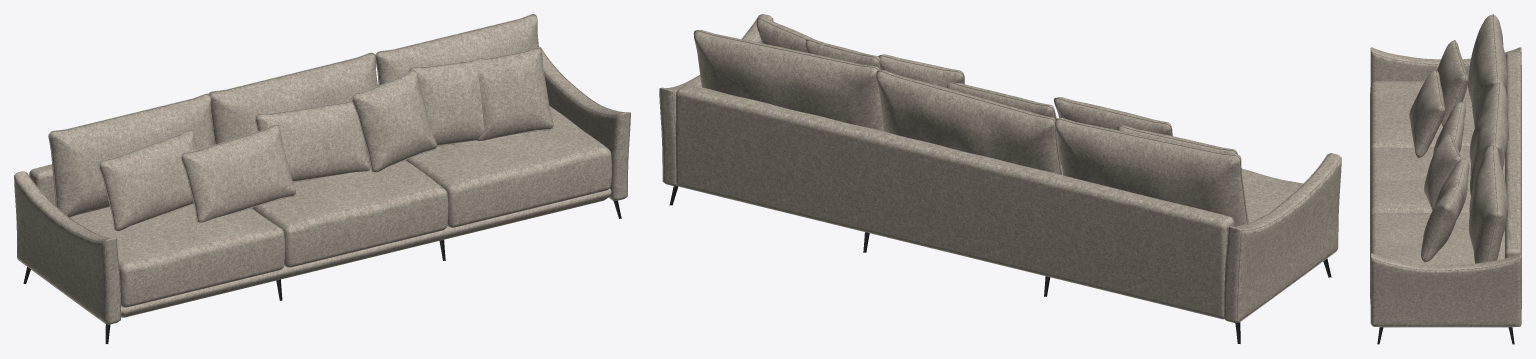
Rendered from straight.glb.
3 renders of one model, left to right at view 1: azimuth 30°, elevation 25°; view 2: azimuth 150°, elevation 25°; view 3: azimuth 270°, elevation 25°, orthographic. The views are drawn at different scales.
Parts seen in each view (by area): view 1: fabric (×2), pillows (×2); view 2: fabric (×2), pillows (×2); view 3: fabric (×2), pillows (×2), legs.
Part boxes in pixels (x1,y1,x2,y2): fabric (×2): (14,14,630,324); pillows (×2): (98,47,553,230); fabric (×2): (659,14,1341,322); pillows (×2): (756,17,1237,164); fabric (×2): (1370,14,1521,327); pillows (×2): (1409,40,1469,261); legs: (1377,327,1514,344).
Bounding box in the file's own units: 3.3 × 0.946 × 1.
3 materials, 2 textured.
